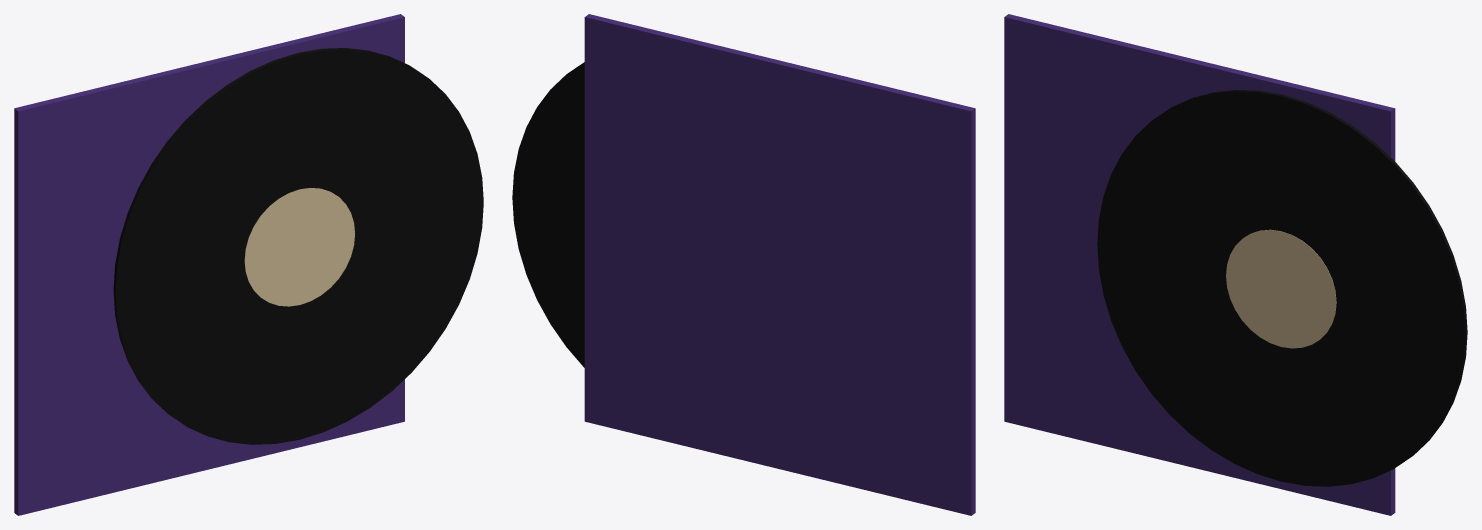
File: record-4.glb
The picture shows the model from 3 angles, left to right: view 1: azimuth 30°, elevation 25°; view 2: azimuth 150°, elevation 25°; view 3: azimuth 330°, elevation 25°; orthographic projection.
Bounding box in the file's own units: 0.3775 × 0.315 × 0.0093.
